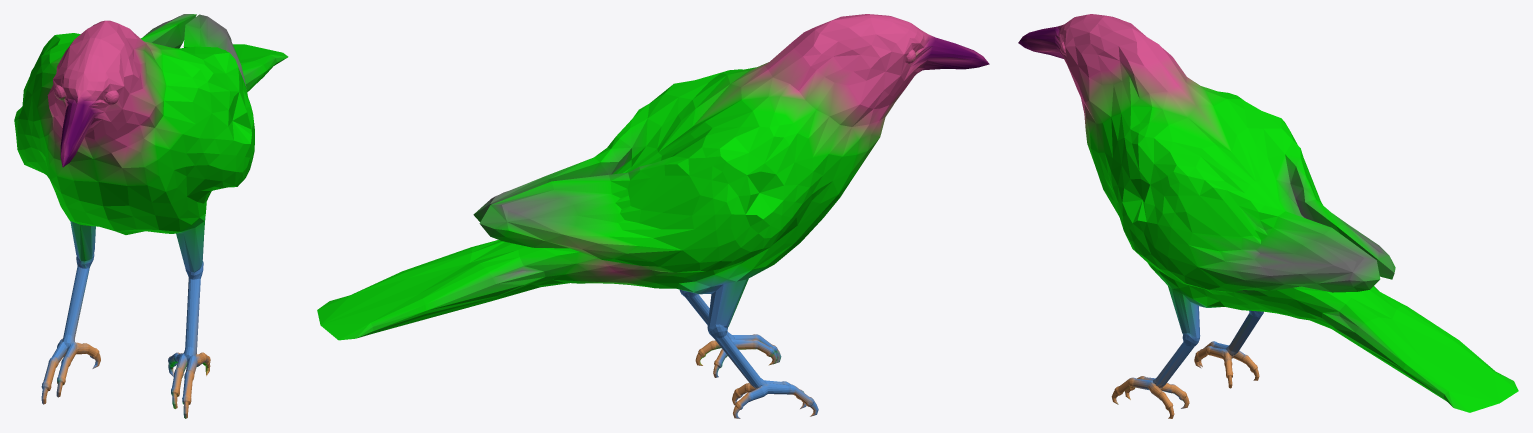
3 views of the same model, side by side, from view 1: azimuth 30°, elevation 25°; view 2: azimuth 150°, elevation 25°; view 3: azimuth 270°, elevation 25° (orthographic). The views are drawn at different scales.
Parts seen in each view (by area): view 1: geometry_0.028; view 2: geometry_0.028; view 3: geometry_0.028.
Part boxes in pixels (bbox=[...]): geometry_0.028: bbox=[14, 14, 288, 418]; geometry_0.028: bbox=[317, 14, 989, 418]; geometry_0.028: bbox=[1018, 14, 1518, 418].
Size of the model in its own units: 1.13 by 0.9108 by 1.19.
